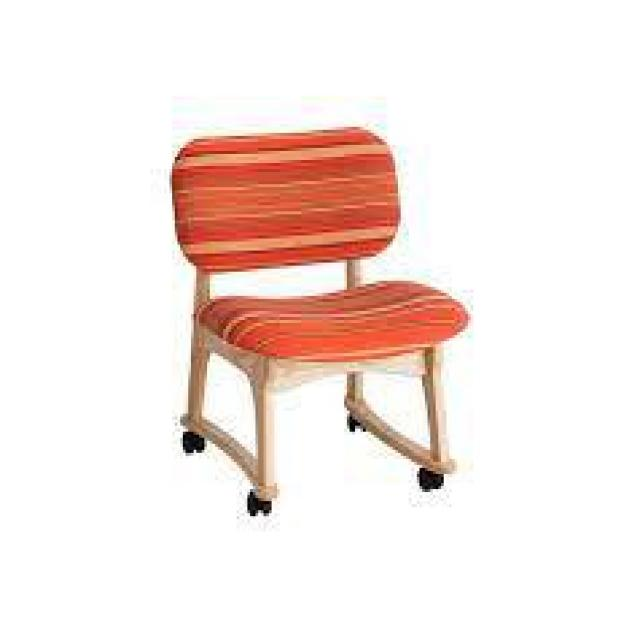chair: (155, 121, 477, 534)
